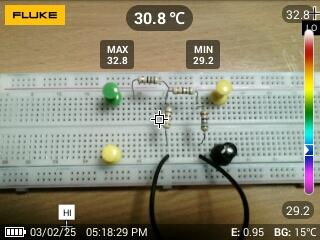resistor: (170, 84, 196, 98), (135, 74, 162, 86), (163, 104, 175, 131), (199, 107, 210, 136)
